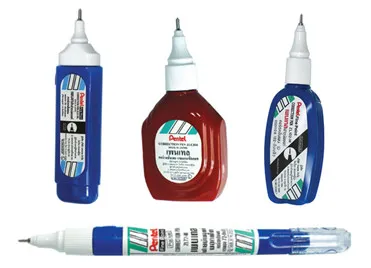Correction_fluid: (137, 16, 231, 204), (259, 12, 329, 208), (15, 221, 353, 260), (52, 7, 104, 206)
